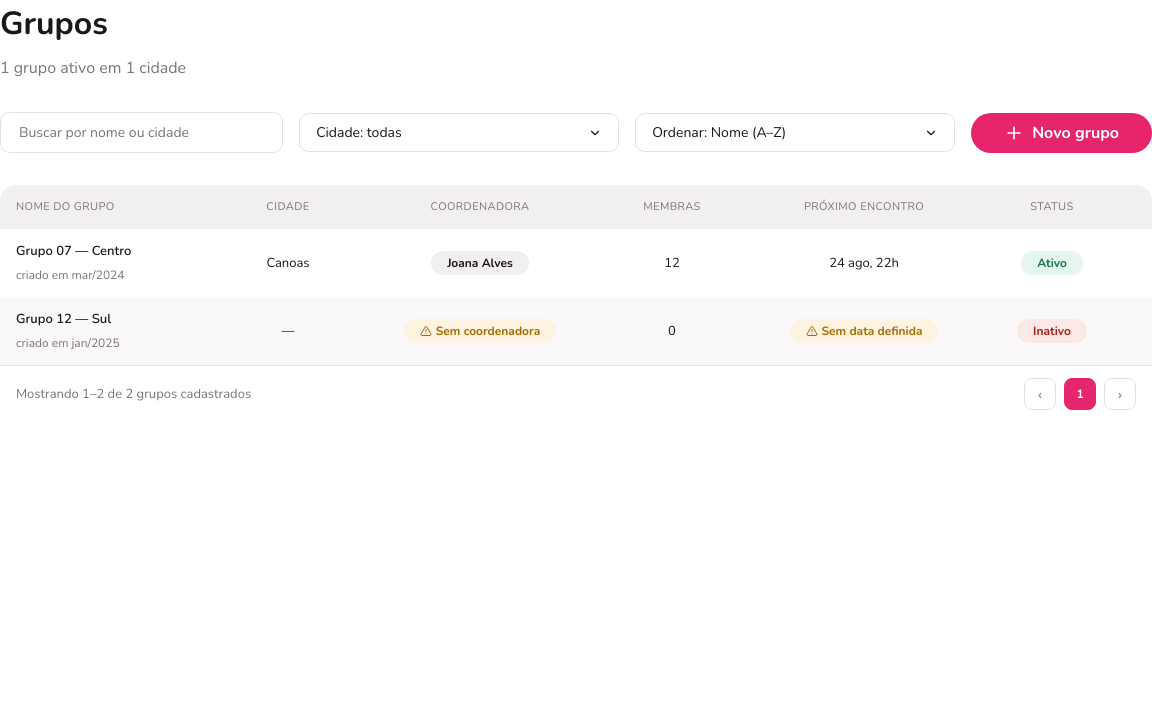
Test: Groups › cria um grupo pelo modal e recarrega a tabela
The image size is (1152, 720).
Expected: the link "Grupo 07 — Centro criado em mar/2024" is shown, top-left (16, 241), bottom-right (131, 285)
Click the button "Novo grupo" at (1062, 132), box top-left (971, 112), bottom-right (1151, 152)
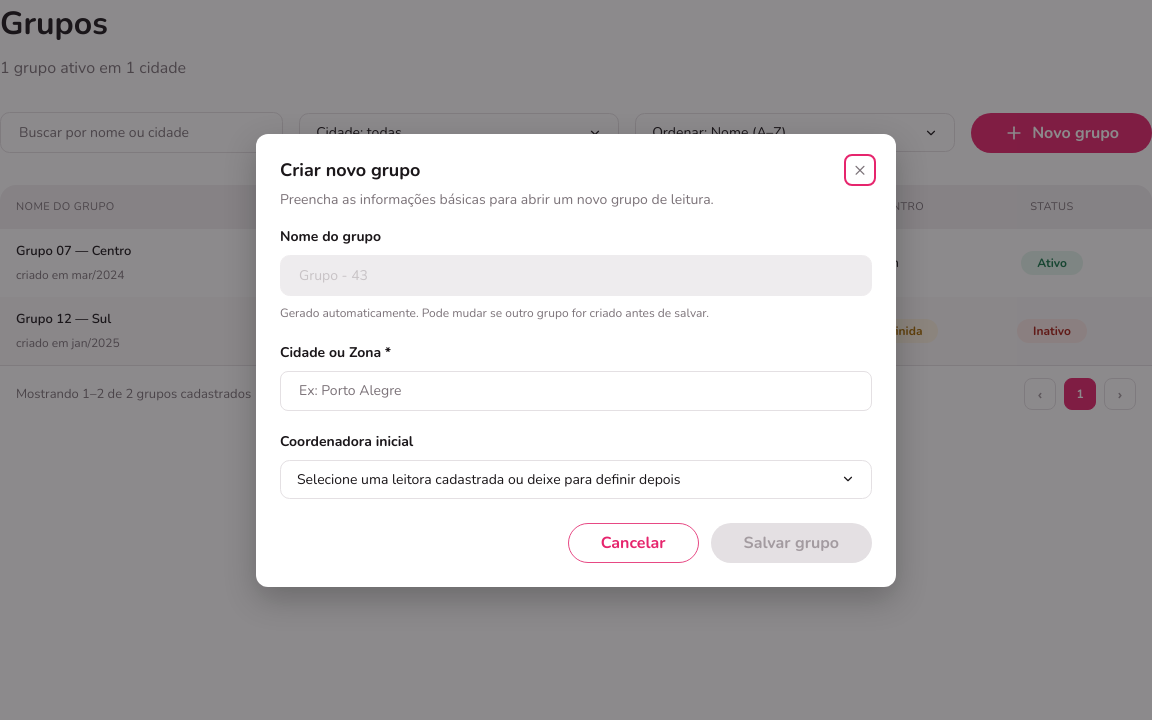
Now the dropdown labelled "Cidade ou Zona *" is enabled
Type "rec" into the dropdown labelled "Cidade ou Zona *" at (576, 390), box top-left (297, 379), bottom-right (855, 402)
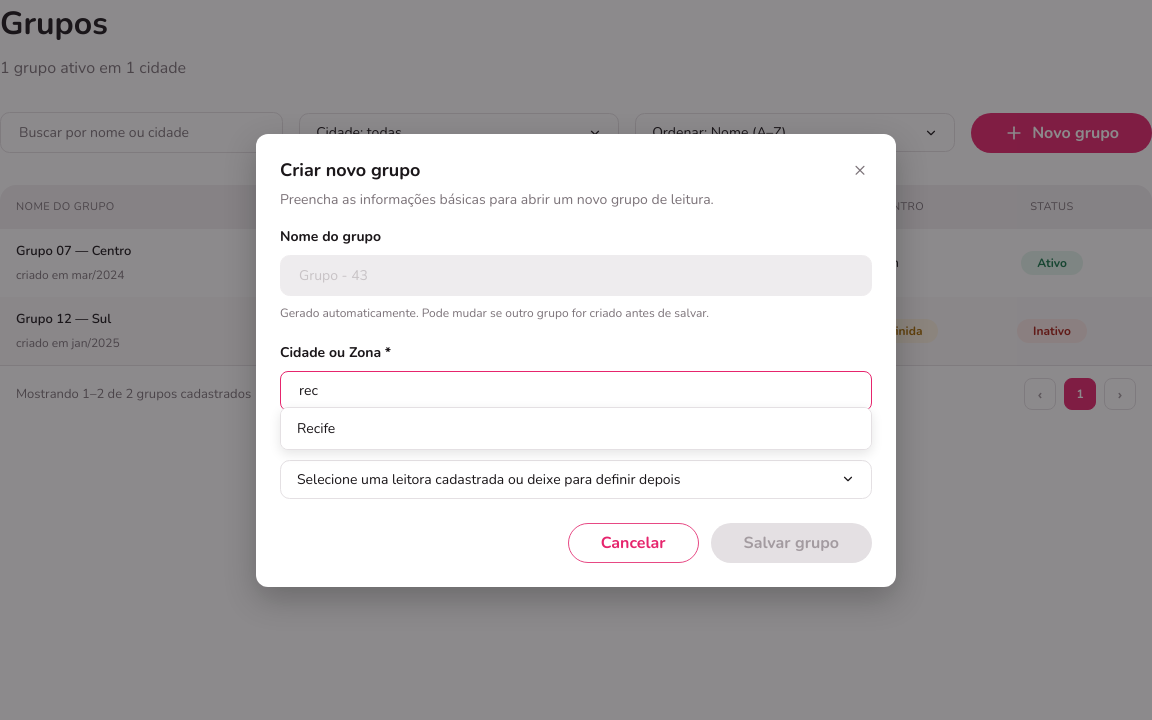
Click the option "Recife" at (316, 428), box top-left (281, 408), bottom-right (871, 449)
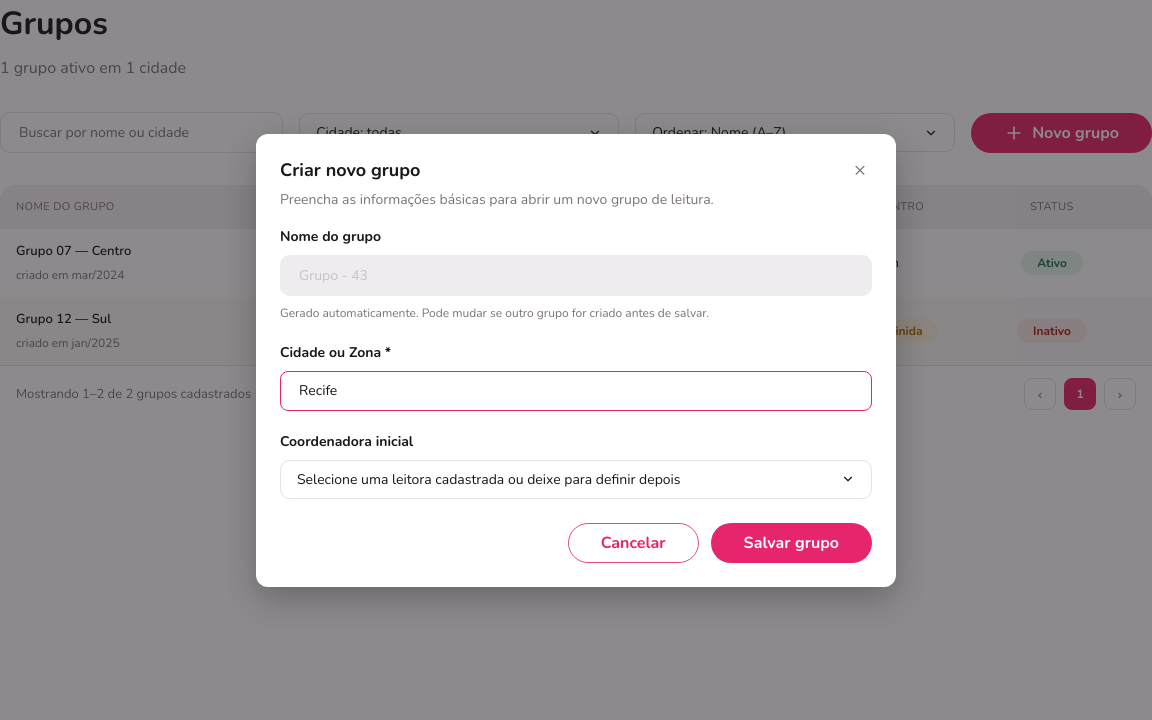
Click the button "Salvar grupo" at (791, 542), box top-left (711, 522), bottom-right (872, 562)
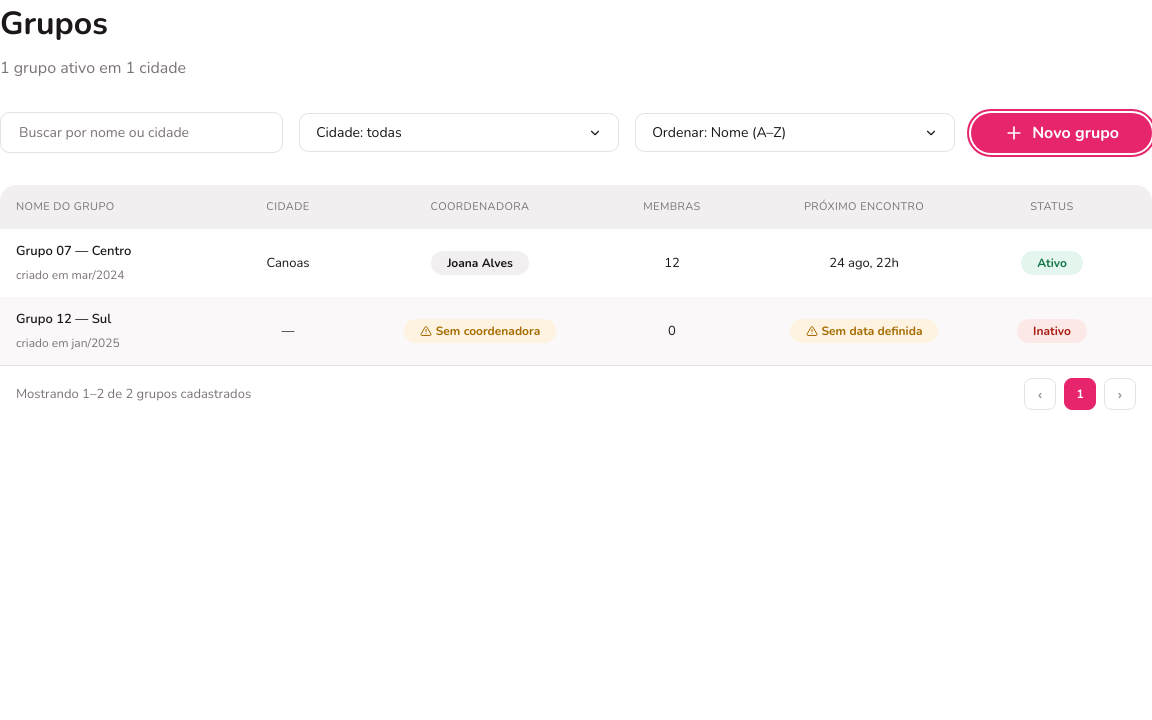
Now the dialog is gone
